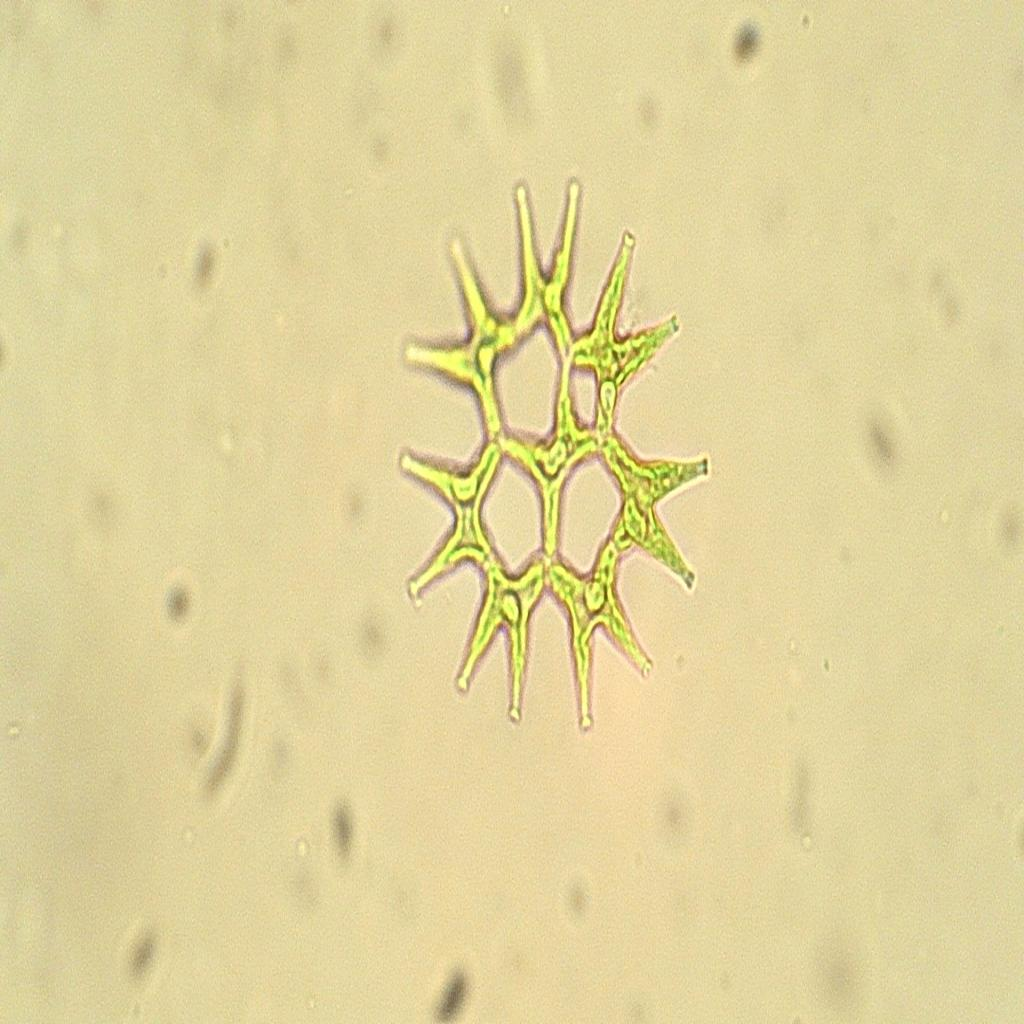Pediastrum_75T: (382, 162, 714, 760)
